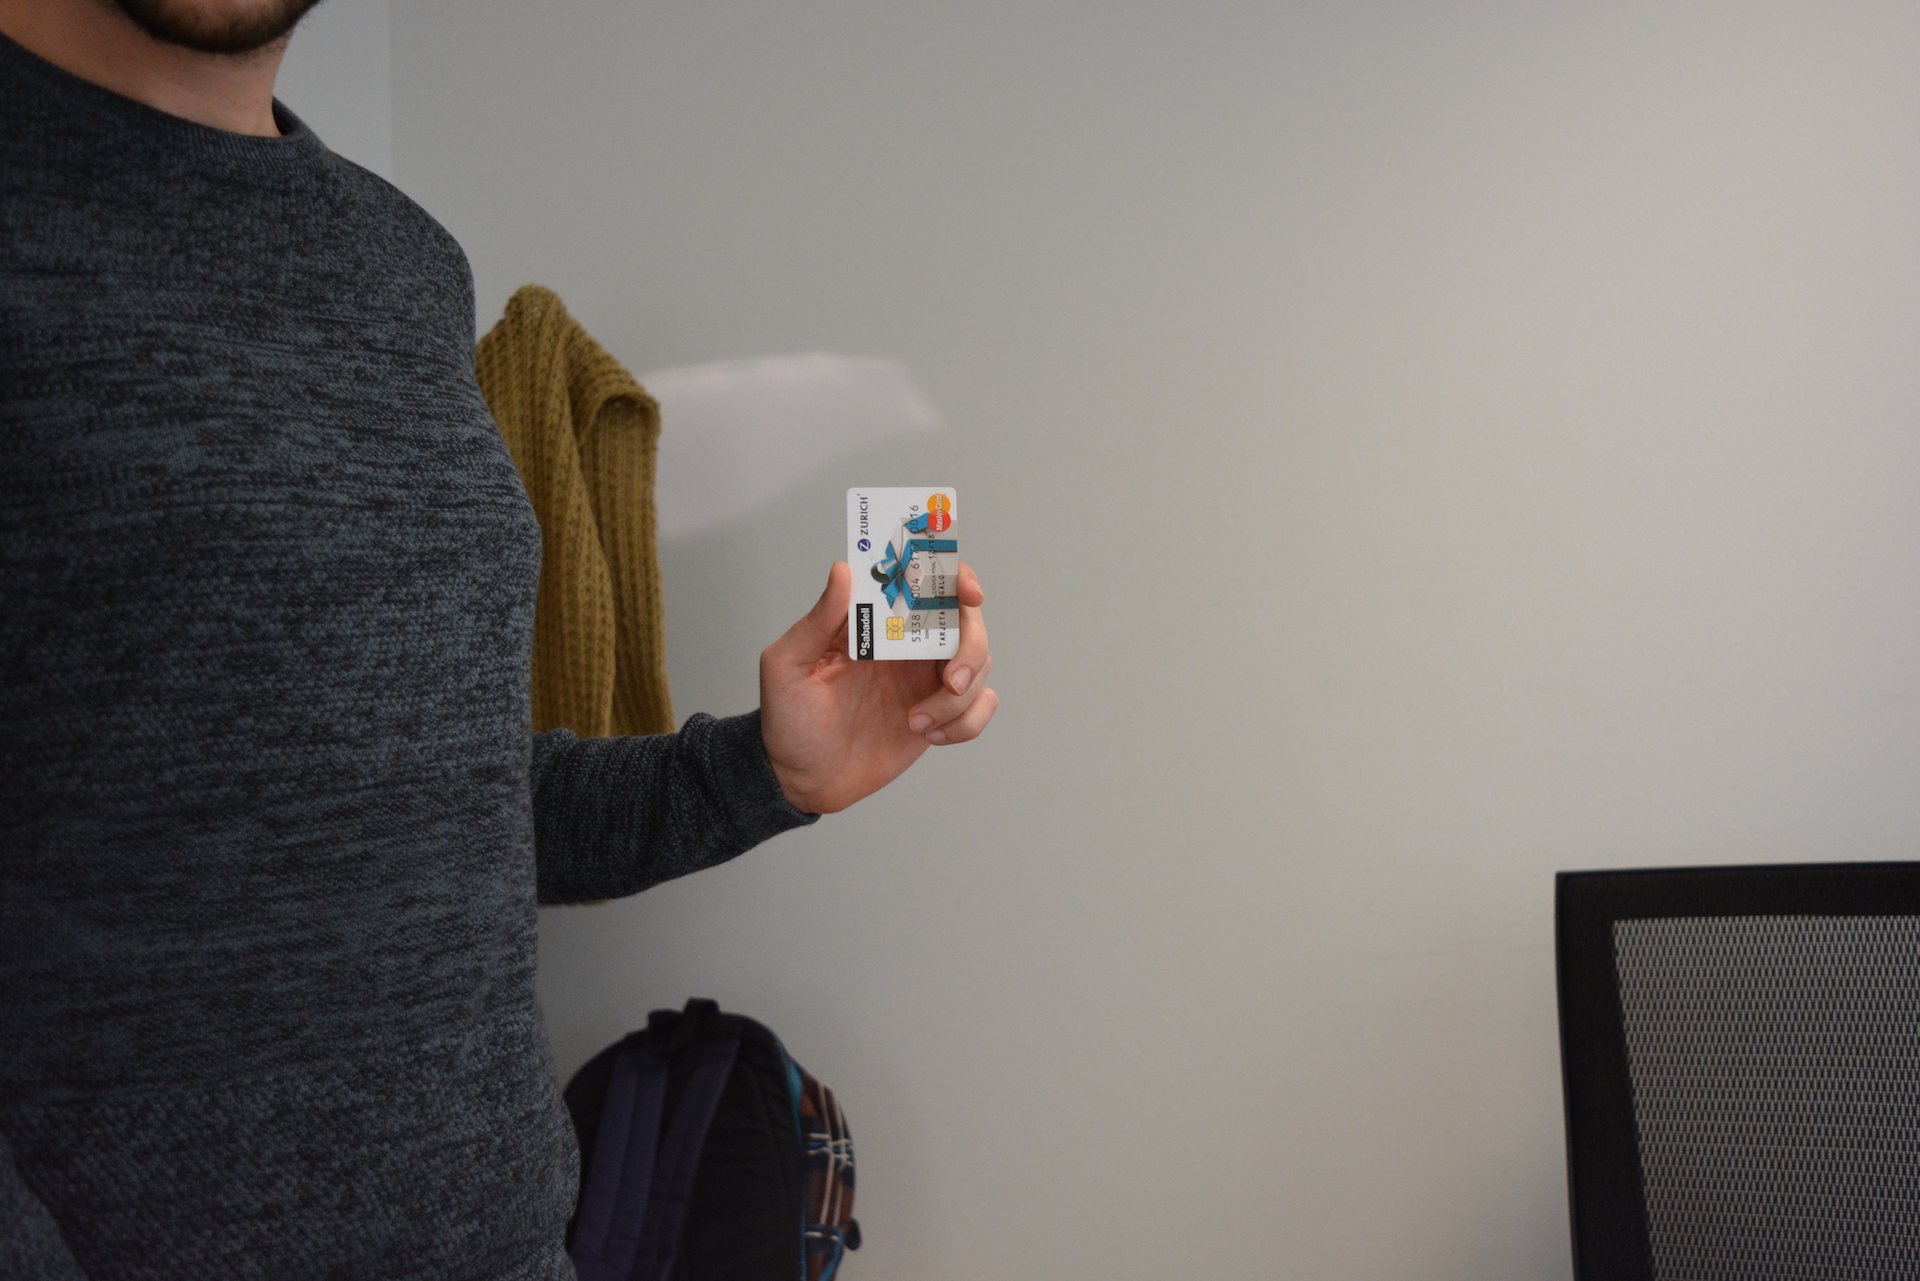tarjeta: (846, 486, 961, 661)
